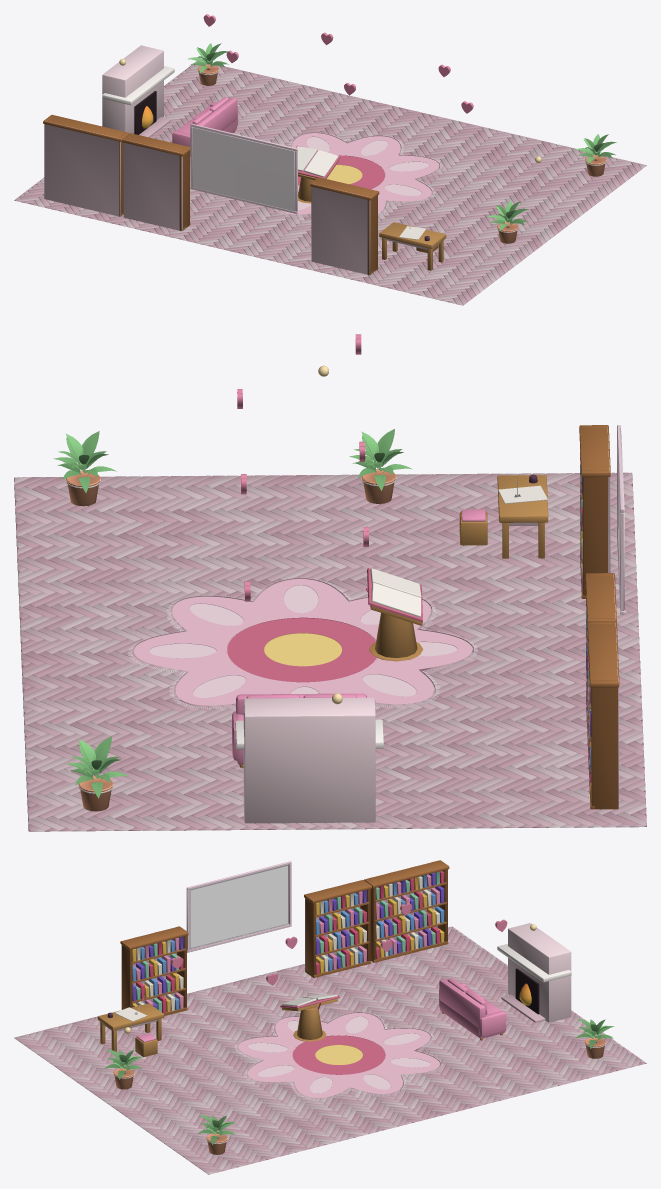
The model's file is zon_room_diary.glb.
3 views of the same model, one above another, from view 1: azimuth 30°, elevation 25°; view 2: azimuth 150°, elevation 25°; view 3: azimuth 270°, elevation 25° (orthographic). The views are drawn at different scales.
Parts seen in each view (by area): view 1: SM_zon_room_diary_room_floor_wood_xm1_z0, SM_zon_room_diary_room_floor_plaster_xm1_z0, SM_zon_room_diary_room_rug_fabric_xm1_z0, SM_zon_room_diary_room_floor_glaze_xm1_z0, SM_zon_room_diary_room_floor_fabric_xm1_z0, SM_zon_room_diary_room_floor_gloss_xm1_z0; view 2: SM_zon_room_diary_room_floor_wood_xm1_z0, SM_zon_room_diary_room_rug_fabric_xm1_z0, SM_zon_room_diary_room_floor_plaster_xm1_z0, SM_zon_room_diary_room_floor_glaze_xm1_z0, SM_zon_room_diary_room_floor_gloss_xm1_z0, SM_zon_room_diary_room_floor_fabric_xm1_z0; view 3: SM_zon_room_diary_room_floor_wood_xm1_z0, SM_zon_room_diary_room_floor_plaster_xm1_z0, SM_zon_room_diary_room_rug_fabric_xm1_z0, SCREEN_fur_screen_diary__0, SM_zon_room_diary_room_floor_fabric_xm1_z0, SM_zon_room_diary_room_floor_glaze_xm1_z0, SM_zon_room_diary_room_floor_gloss_xm1_z0.
Boxes of the visible parts, x1,y1,x2,y2 form: SM_zon_room_diary_room_floor_wood_xm1_z0: (14,61,646,305); SM_zon_room_diary_room_floor_plaster_xm1_z0: (44,45,440,275); SM_zon_room_diary_room_rug_fabric_xm1_z0: (275,132,442,217); SM_zon_room_diary_room_floor_glaze_xm1_z0: (188,43,616,230); SM_zon_room_diary_room_floor_fabric_xm1_z0: (172,68,597,227); SM_zon_room_diary_room_floor_gloss_xm1_z0: (197,64,606,243); SM_zon_room_diary_room_floor_wood_xm1_z0: (14,425,646,831); SM_zon_room_diary_room_rug_fabric_xm1_z0: (127,577,477,709); SM_zon_room_diary_room_floor_plaster_xm1_z0: (235,425,624,823); SM_zon_room_diary_room_floor_glaze_xm1_z0: (53,429,412,798); SM_zon_room_diary_room_floor_gloss_xm1_z0: (65,469,537,811); SM_zon_room_diary_room_floor_fabric_xm1_z0: (232,509,485,764); SM_zon_room_diary_room_floor_wood_xm1_z0: (14,860,646,1174); SM_zon_room_diary_room_floor_plaster_xm1_z0: (103,861,571,1031); SM_zon_room_diary_room_rug_fabric_xm1_z0: (234,1012,442,1100); SCREEN_fur_screen_diary__0: (190,866,287,947); SM_zon_room_diary_room_floor_fabric_xm1_z0: (124,978,596,1138); SM_zon_room_diary_room_floor_glaze_xm1_z0: (104,1019,614,1145); SM_zon_room_diary_room_floor_gloss_xm1_z0: (107,1012,606,1154).
Bounding box in the file's own units: 17.57 × 4.05 × 18.93.
